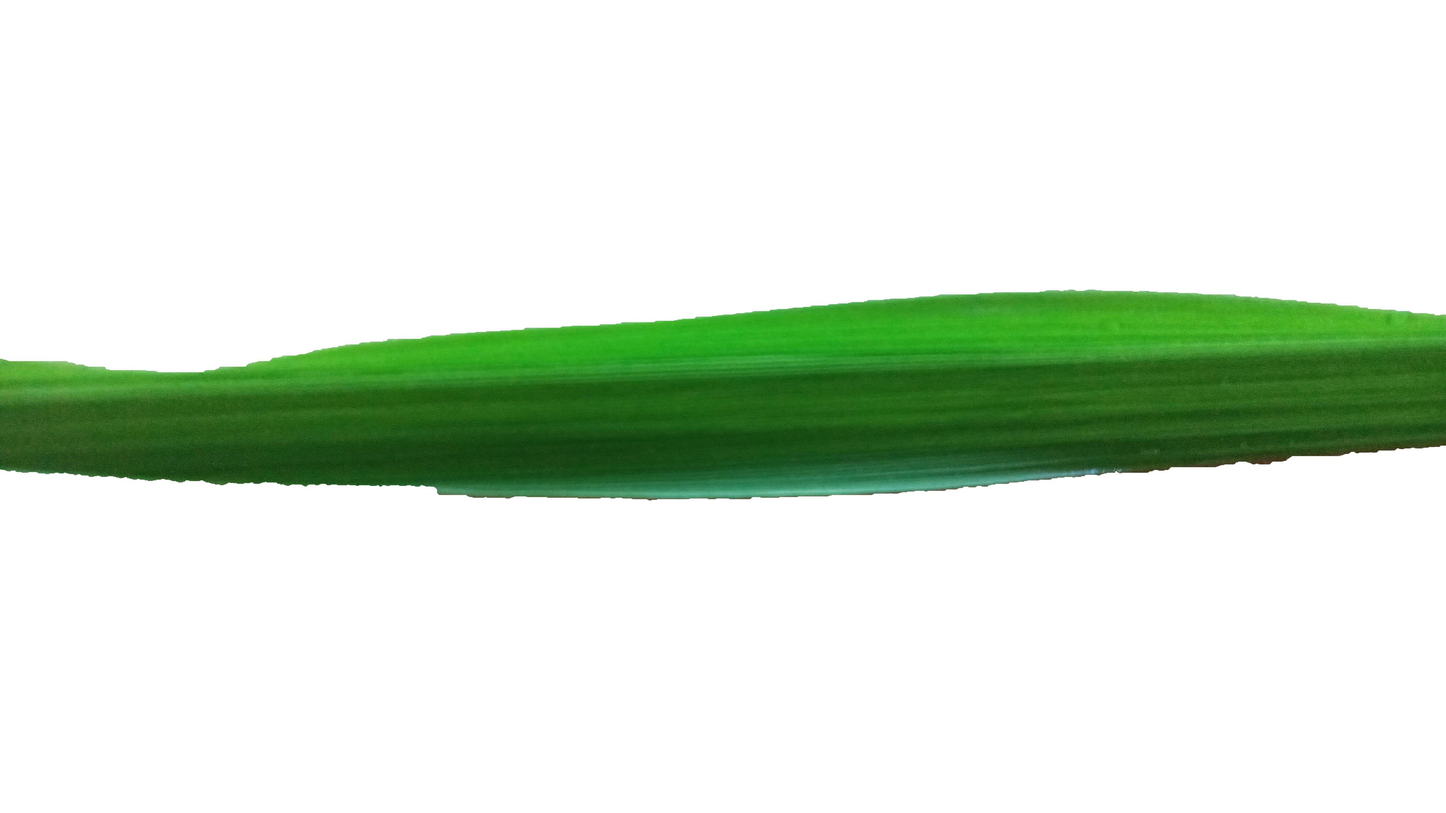Healthy: (0, 292, 1446, 498)
